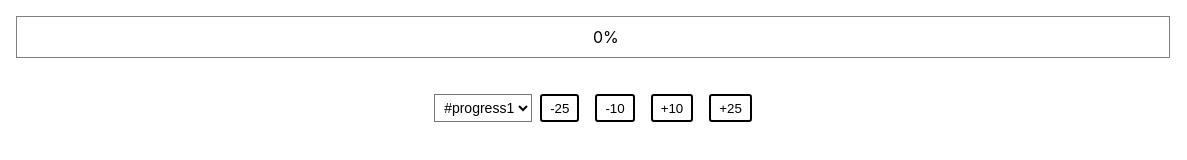
Test: <App/> › should update progress bar value when click on button
Click the button "+25". click: (731, 108)
box: [709, 94, 752, 122]
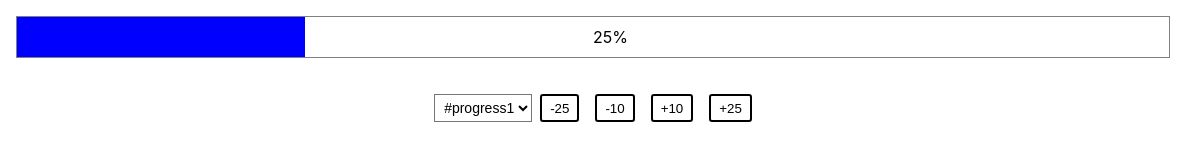
Check: the text "25%" is shown, box [593, 27, 628, 47]
Click the button "+10". click: (672, 108)
box: [651, 94, 693, 122]
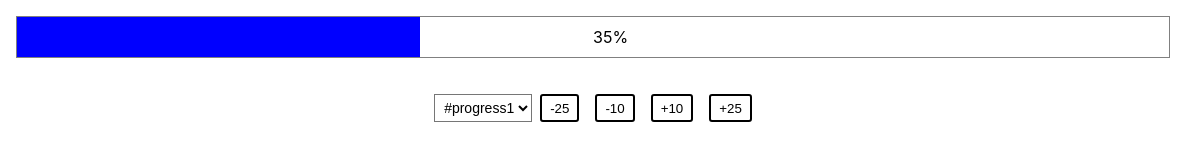
Check: the text "35%" is shown, box [593, 27, 628, 47]
Click the button "-10". click: (615, 108)
box: [595, 94, 635, 122]
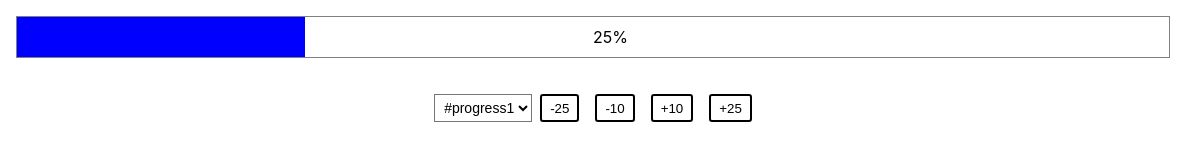
Check: the text "25%" is shown, box [593, 27, 628, 47]
Click the button "-25". click: (560, 108)
box: [540, 94, 579, 122]
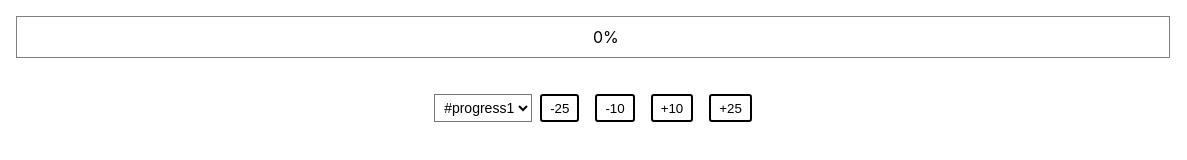
Check: the text "0%" is shown, box [593, 27, 619, 47]
